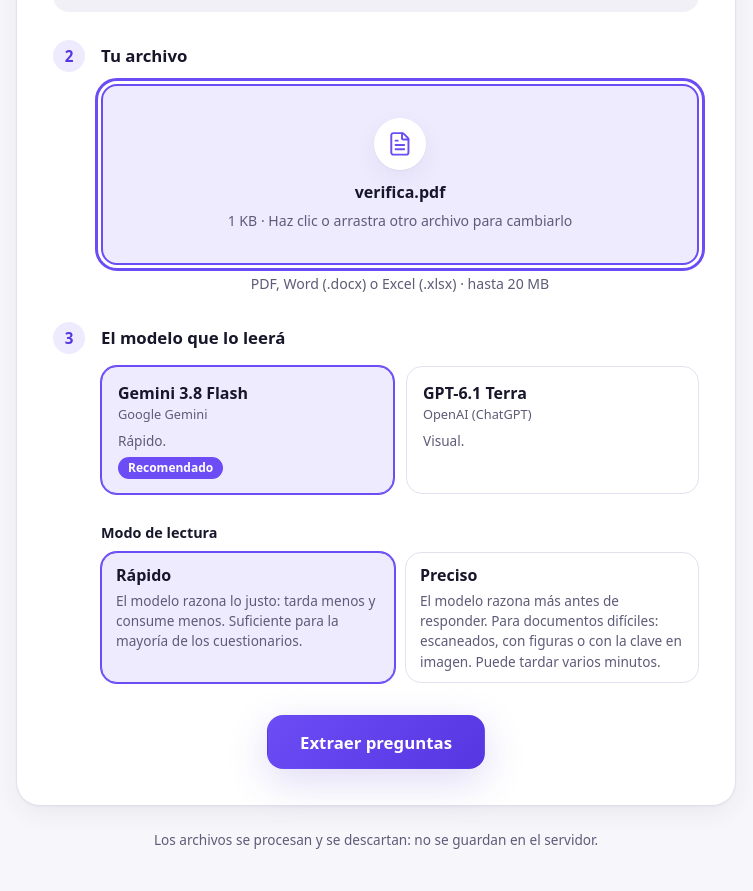
App › offers the fast and precise modes and sends the chosen one
This screenshot has width=753, height=891.
Earlier steps of the test are not shown.
(page scrolled)
Expected: the radio button labelled "Rápido" is checked, [101, 552, 395, 683]
Click the radio button labelled "Preciso" at (552, 617), box [405, 552, 699, 683]
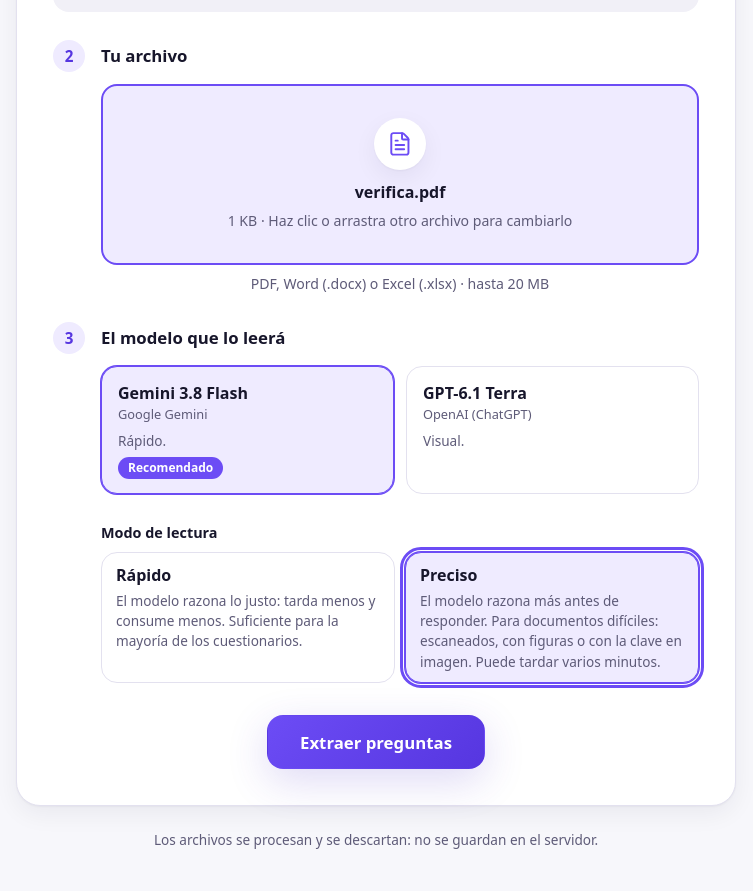
Click the button "Extraer preguntas" at (376, 742), box [267, 715, 485, 769]
(page scrolled)
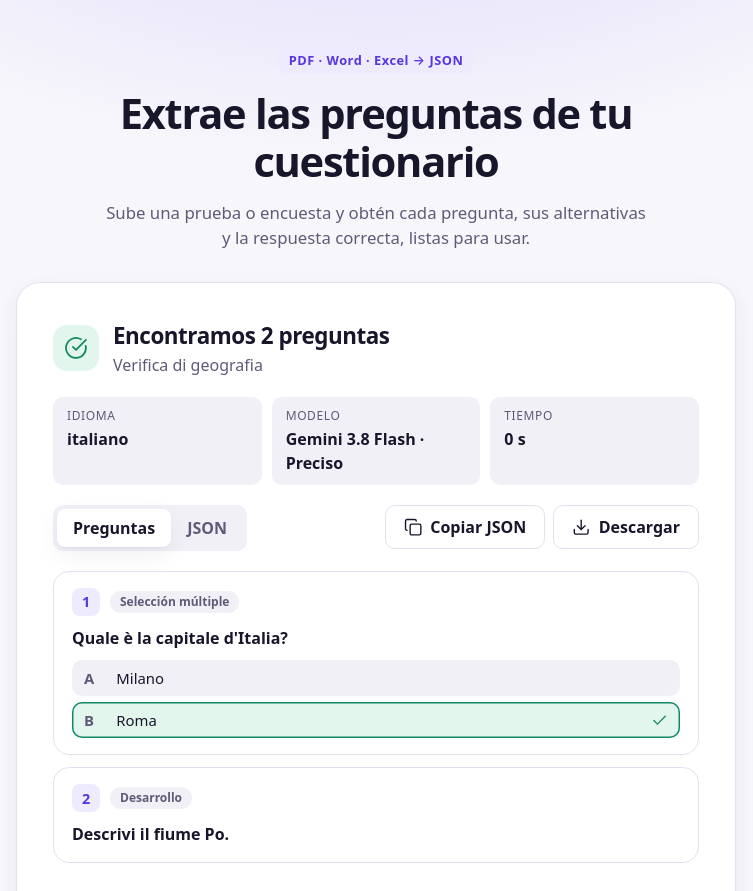
Expected: the text "Gemini 3.8 Flash · Preciso" is shown, [286, 428, 424, 474]
